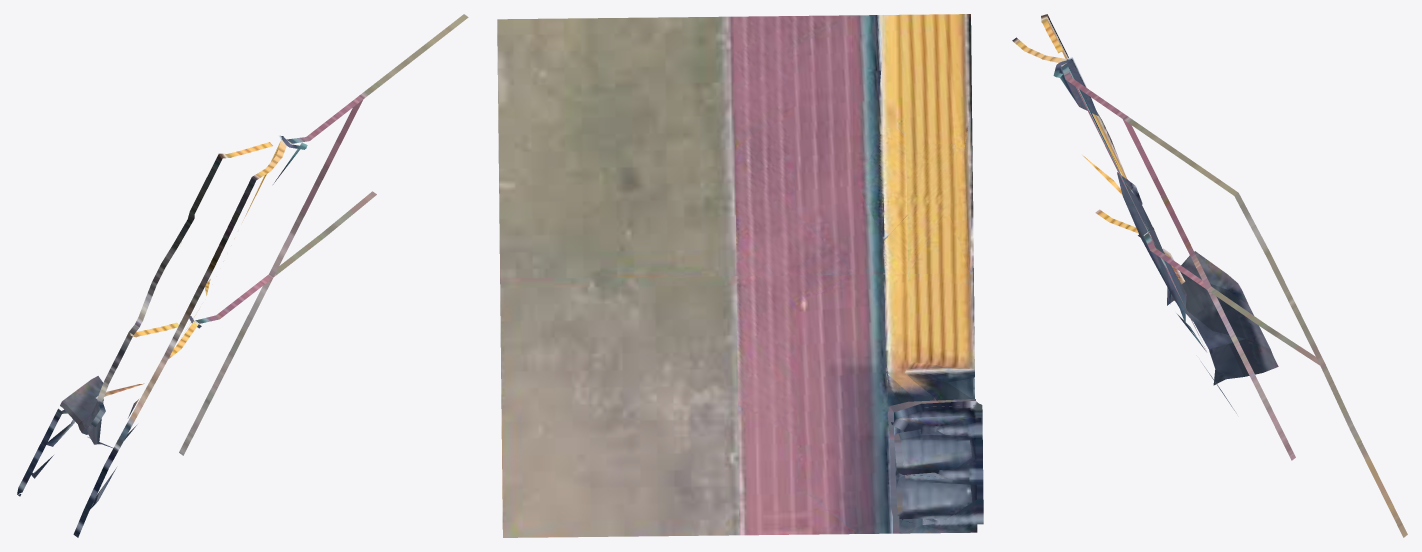
The picture shows the model from 3 angles, left to right: view 1: azimuth 30°, elevation 25°; view 2: azimuth 150°, elevation 25°; view 3: azimuth 270°, elevation 25°; orthographic projection. The views are drawn at different scales.
Size of the model in its own units: 41.22 by 36.11 by 32.07.
1 material, 1 textured.
